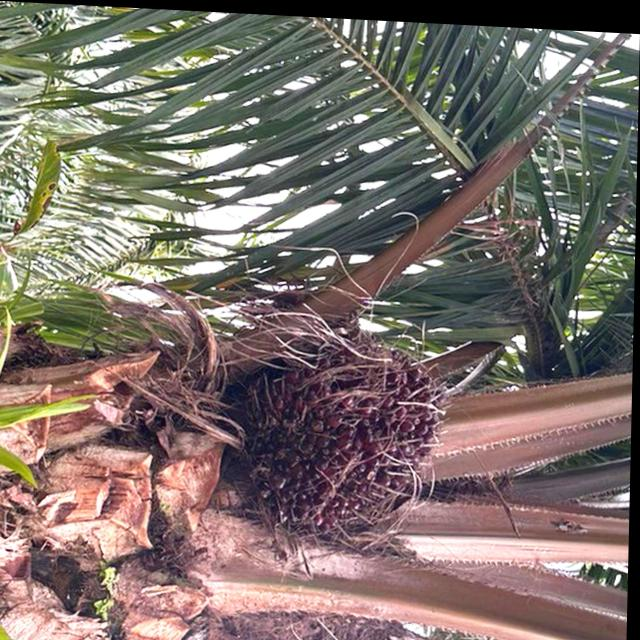ripe: (257, 332, 460, 527)
